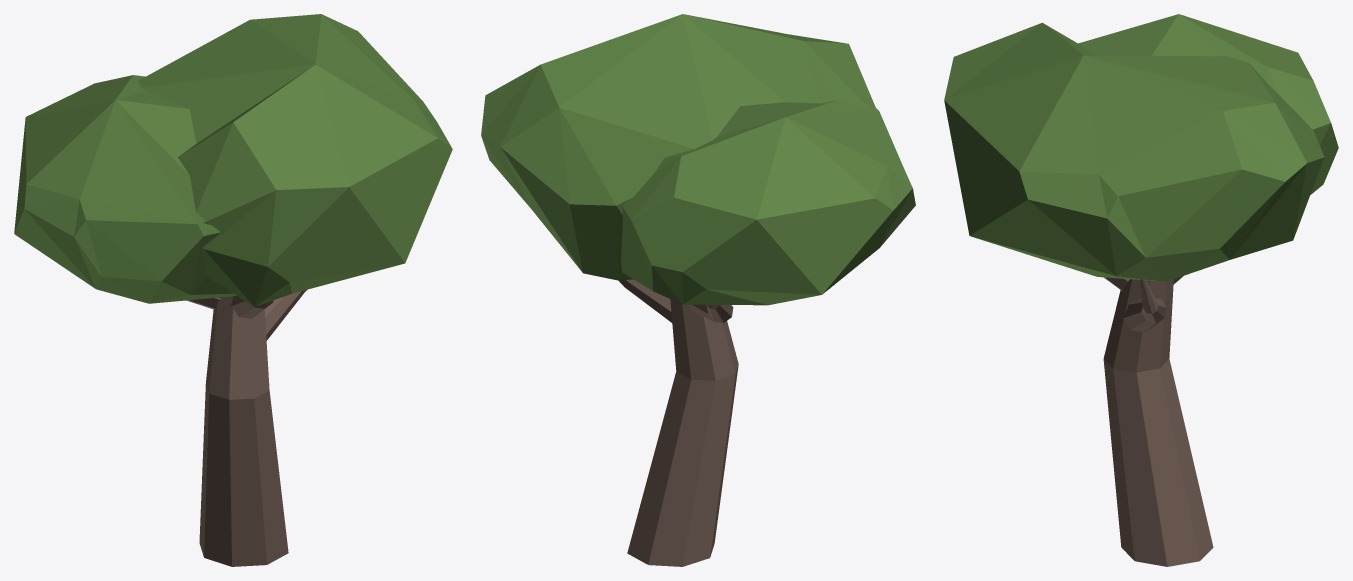
The model's file is Tree3.fbx.
3 renders of one model, left to right at view 1: azimuth 30°, elevation 25°; view 2: azimuth 150°, elevation 25°; view 3: azimuth 270°, elevation 25°, orthographic.
Visible parts, largest first — view 1: Cube.001; view 2: Cube.001; view 3: Cube.001.
Boxes of the visible parts, box(x1,y1,x2,y2) form: Cube.001: box(14, 14, 452, 566); Cube.001: box(481, 14, 915, 566); Cube.001: box(944, 14, 1338, 566).
Bounding box in the file's own units: 411 × 509 × 359.
1 material, 1 textured.
